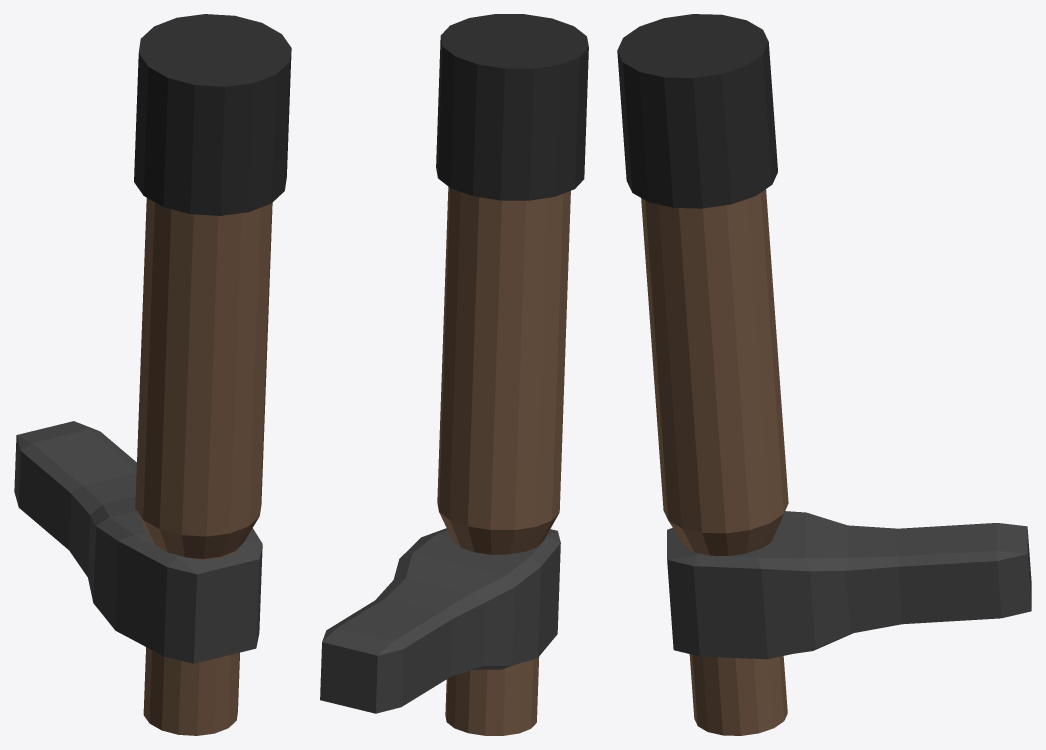
Rendered from Torch.fbx.
3 views of the same model, side by side, from view 1: azimuth 30°, elevation 25°; view 2: azimuth 150°, elevation 25°; view 3: azimuth 270°, elevation 25° (orthographic). The views are drawn at different scales.
Parts seen in each view (by area): view 1: TorchWallHanger.020; view 2: TorchWallHanger.020; view 3: TorchWallHanger.020.
Boxes of the visible parts, x1,y1,x2,y2 form: TorchWallHanger.020: (14,14,291,735); TorchWallHanger.020: (320,14,588,735); TorchWallHanger.020: (617,14,1031,735).
Size of the model in its own units: 9 by 44.29 by 24.56.
